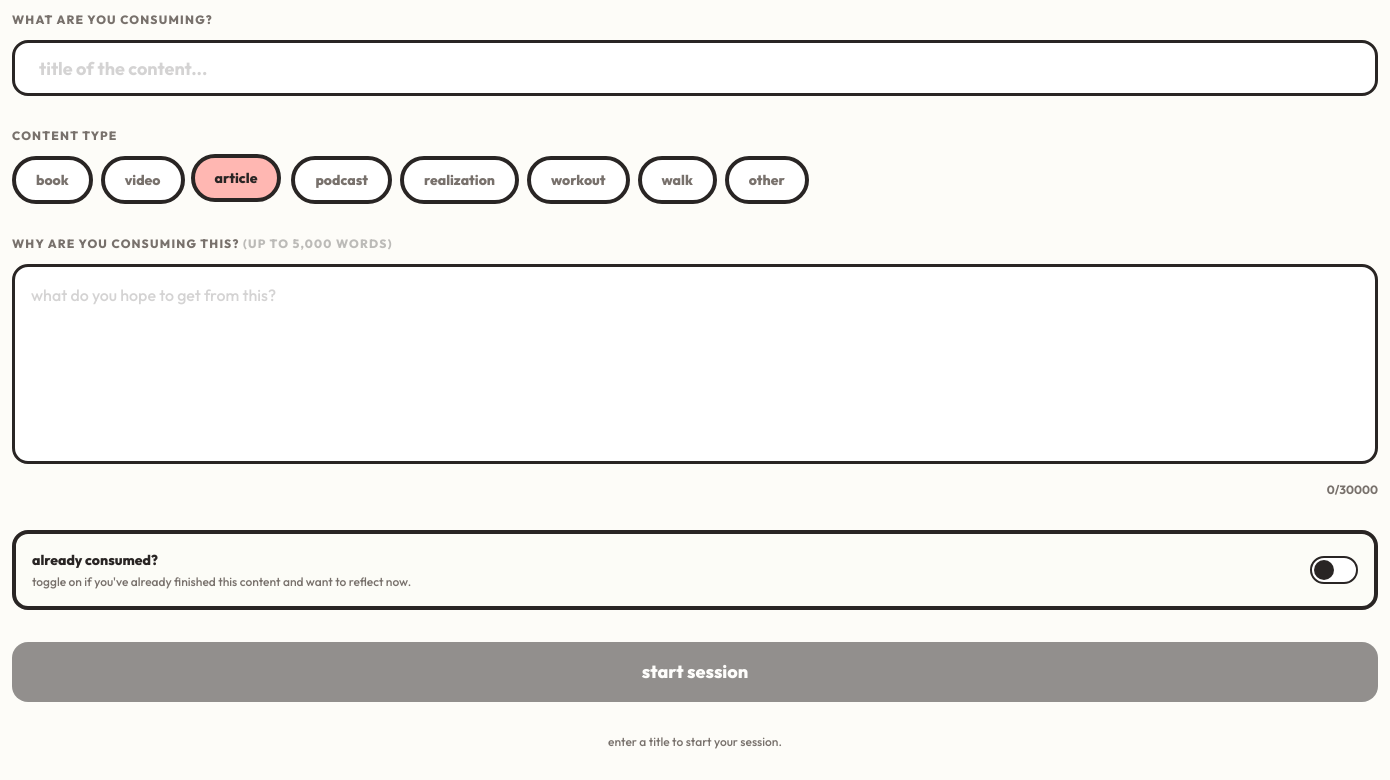
Test: SessionStartForm › shows character count for consume reason
This screenshot has width=1390, height=780.
Expected: the text "0/30000" is shown, [1327,482,1378,497]
Type "Hello" into the text box with placeholder "what do you hope to get from this?" at (695, 364), box [12,264,1378,464]
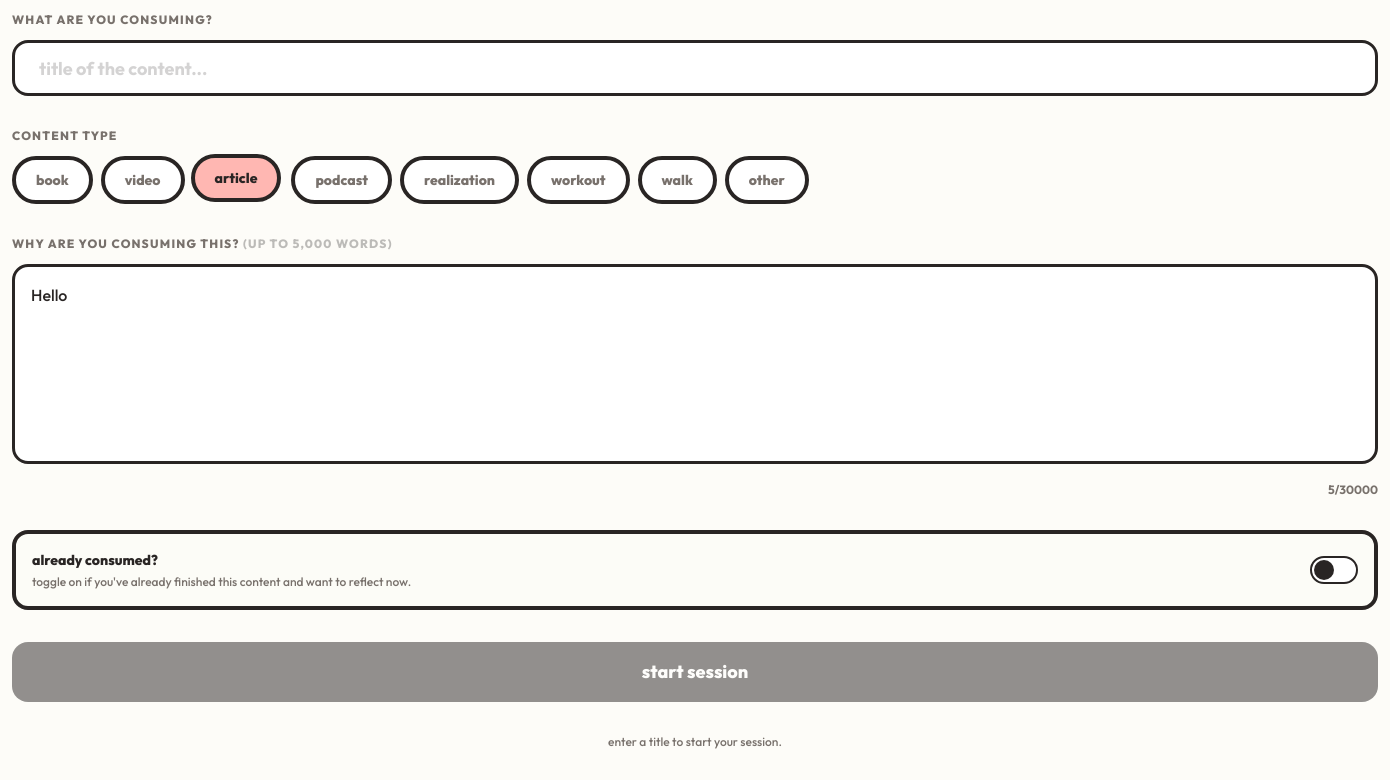
Now the text "5/30000" is shown, box [1328,482,1378,497]
